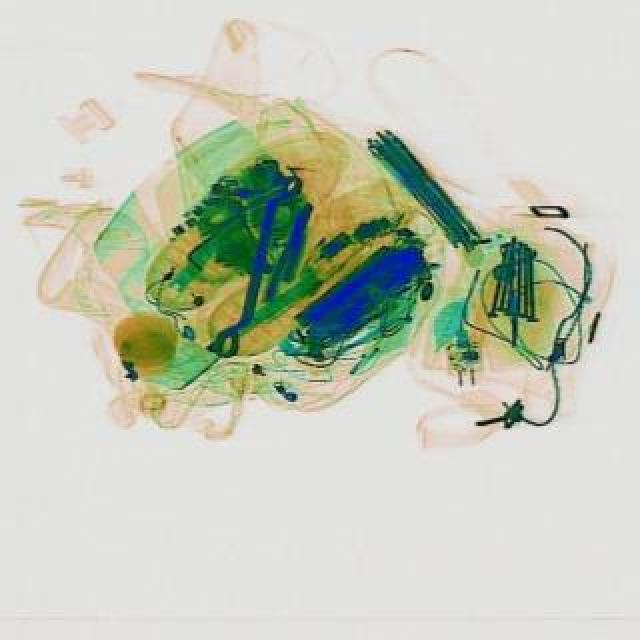scissors: (204, 174, 304, 366)
wrench: (262, 200, 318, 308)
